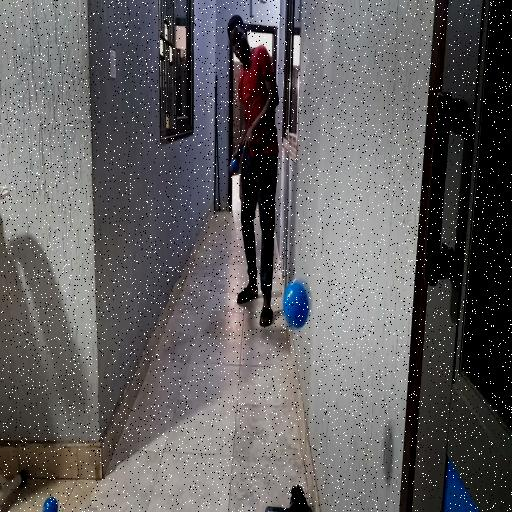plastic-ball: (282, 276, 314, 331)
